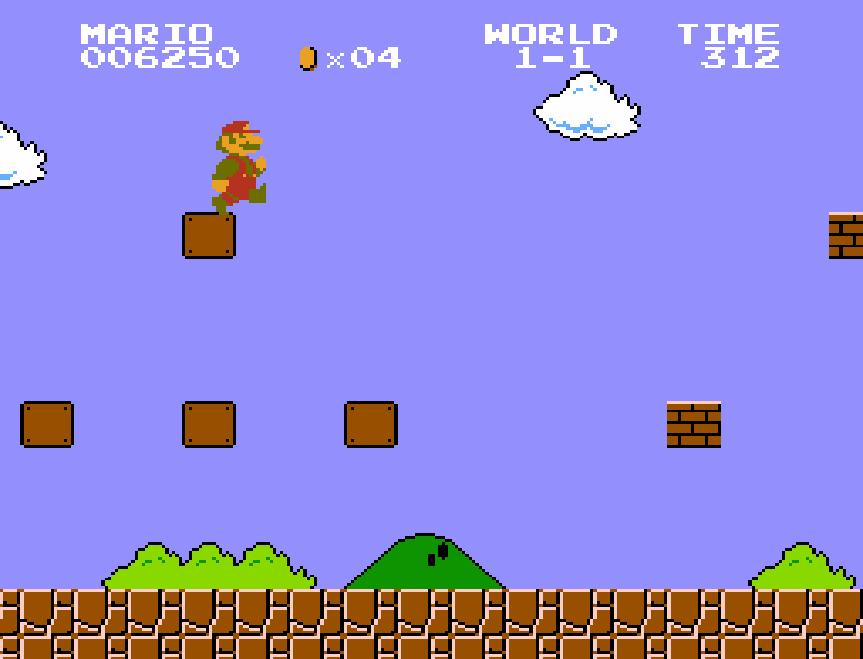big_mario: (210, 118, 268, 216)
